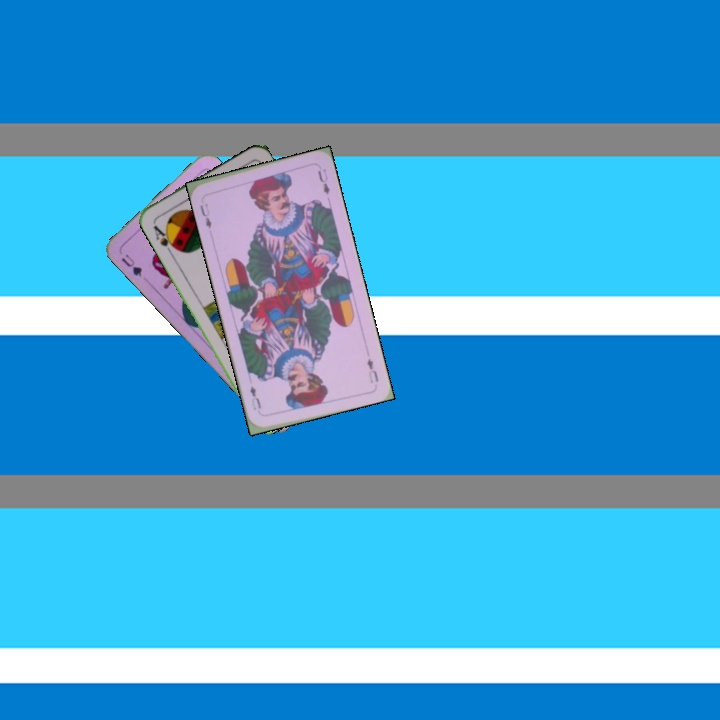EU: (196, 199, 214, 231), (363, 354, 381, 385)
GU: (117, 250, 147, 280)
SA: (149, 218, 179, 256)
